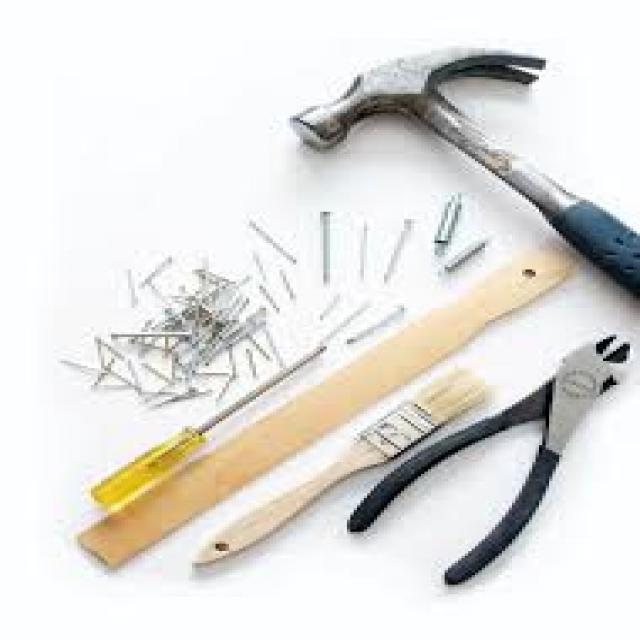pliers: (344, 322, 638, 583)
